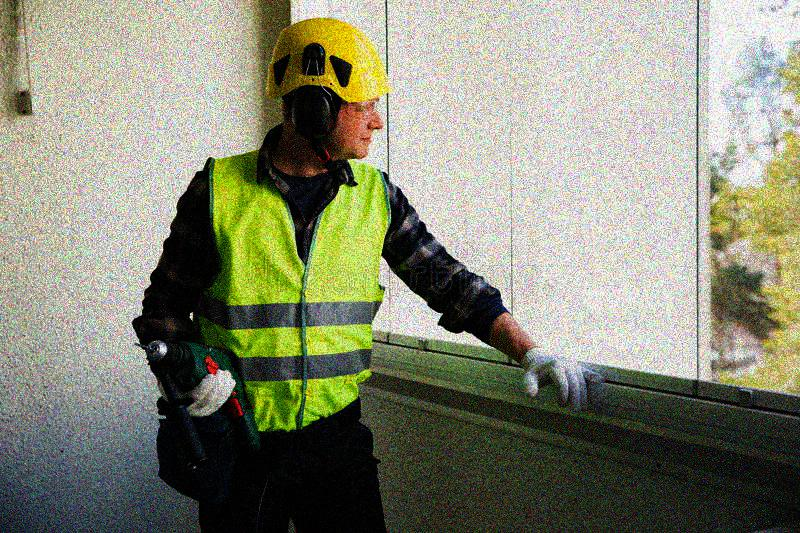helmet: (268, 15, 392, 160)
